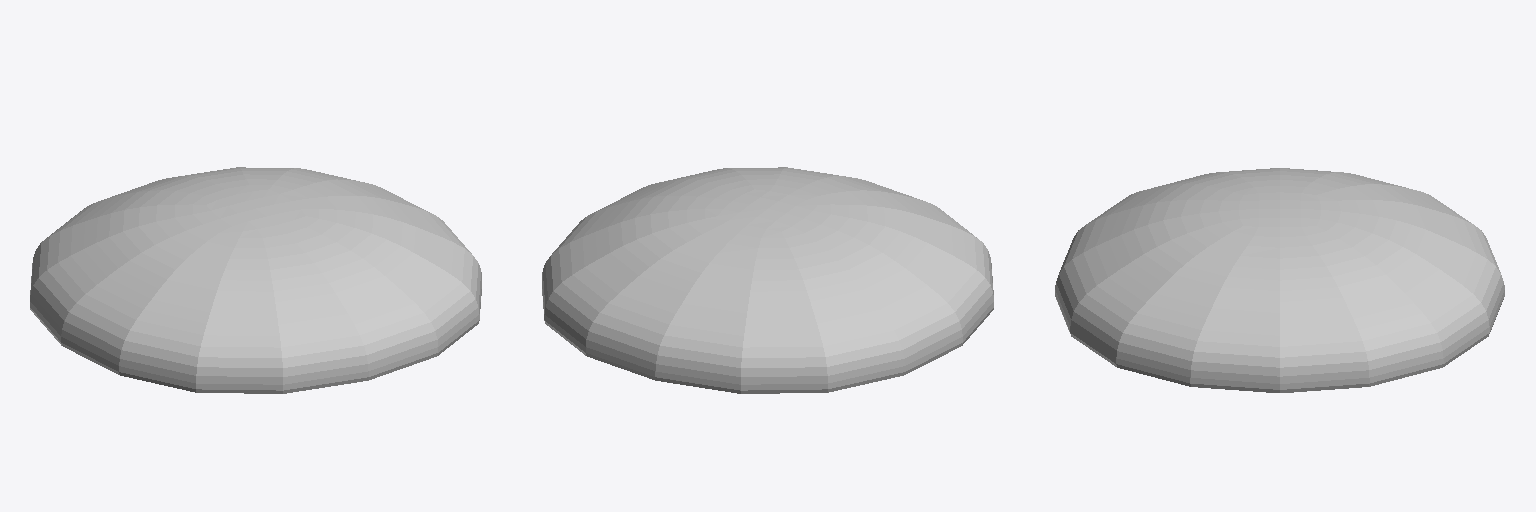
File: footRest.obj
The picture shows the model from 3 angles: view 1: azimuth 30°, elevation 25°; view 2: azimuth 150°, elevation 25°; view 3: azimuth 270°, elevation 25°; orthographic projection.
Visible parts, largest first — view 1: Cube; view 2: Cube; view 3: Cube.
Boxes of the visible parts, <box> form: Cube: <box>30,167,481,393</box>; Cube: <box>542,167,993,393</box>; Cube: <box>1055,168,1504,392</box>.
Size of the model in its own units: 1.83 by 0.4258 by 1.83.